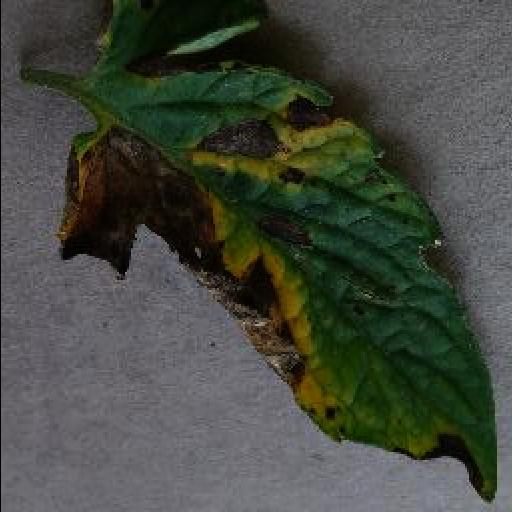disease_tomato: (59, 0, 497, 500)
